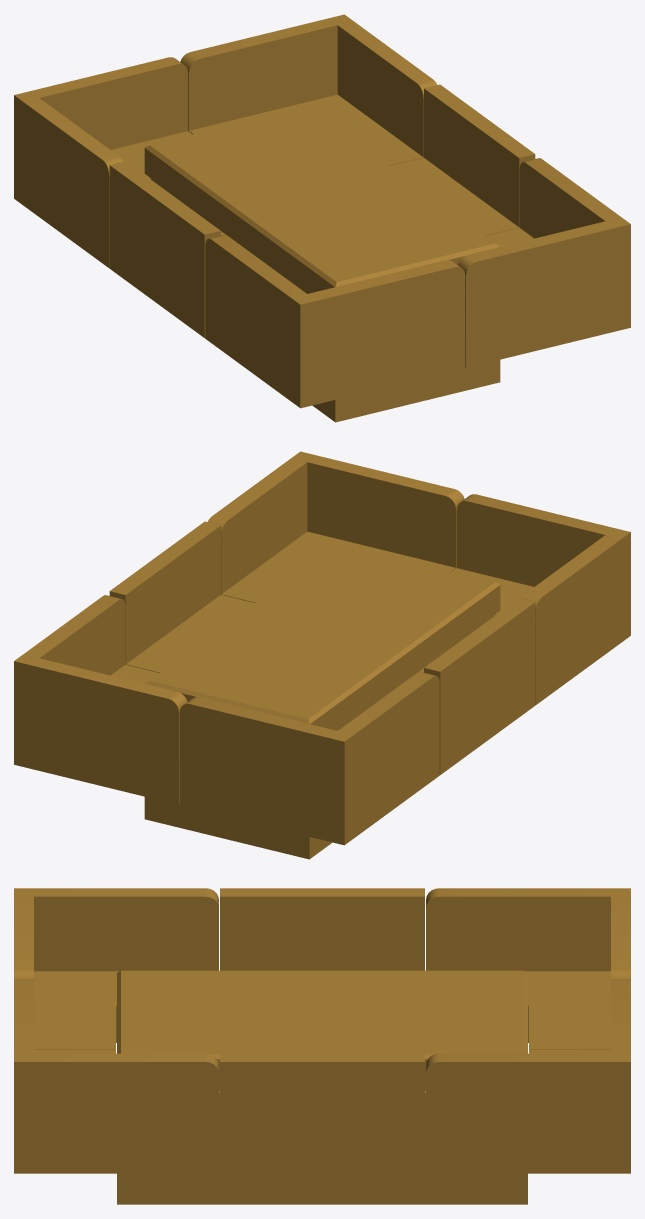
The model's file is Casket.dae.
The picture shows the model from 3 angles, top to bottom: view 1: azimuth 30°, elevation 25°; view 2: azimuth 150°, elevation 25°; view 3: azimuth 270°, elevation 25°; orthographic projection. The views are drawn at different scales.
Parts seen in each view (by area): view 1: Part.6, Part.3, Part.2, Part.1, Part.0, Part.5, Part.4, Part.7; view 2: Part.6, Part.0, Part.1, Part.2, Part.3, Part.5, Part.4, Part.7; view 3: Part.6, Part.1, Part.2, Part.4, Part.0, Part.3, Part.5, Part.7.
Boxes of the visible parts, x1,y1,x2,y2 form: Part.6: (144, 106, 499, 293); Part.3: (205, 235, 465, 408); Part.2: (457, 158, 630, 367); Part.1: (180, 14, 437, 165); Part.0: (14, 57, 192, 268); Part.5: (109, 161, 220, 337); Part.4: (390, 84, 535, 235); Part.7: (149, 178, 500, 422); Part.6: (145, 543, 500, 730); Part.0: (179, 672, 439, 845); Part.1: (14, 595, 187, 804); Part.2: (207, 451, 464, 602); Part.3: (452, 494, 630, 705); Part.5: (424, 598, 535, 774); Part.4: (109, 521, 254, 672); Part.7: (144, 615, 495, 859); Part.6: (117, 970, 527, 1090); Part.1: (426, 979, 630, 1173); Part.2: (14, 979, 218, 1173); Part.4: (220, 1053, 424, 1173); Part.0: (426, 888, 630, 1049); Part.3: (14, 888, 218, 1049); Part.5: (220, 888, 424, 970); Part.7: (117, 1090, 527, 1204).
Size of the model in its own units: 31.92 by 15.96 by 47.92.
